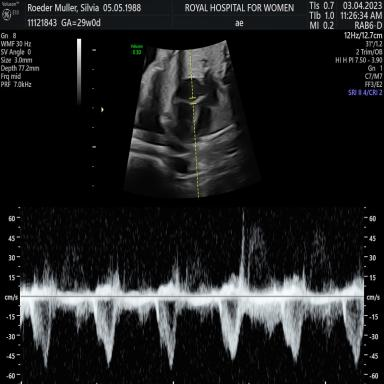Ultrasound-Waves: (28, 207, 361, 384)
